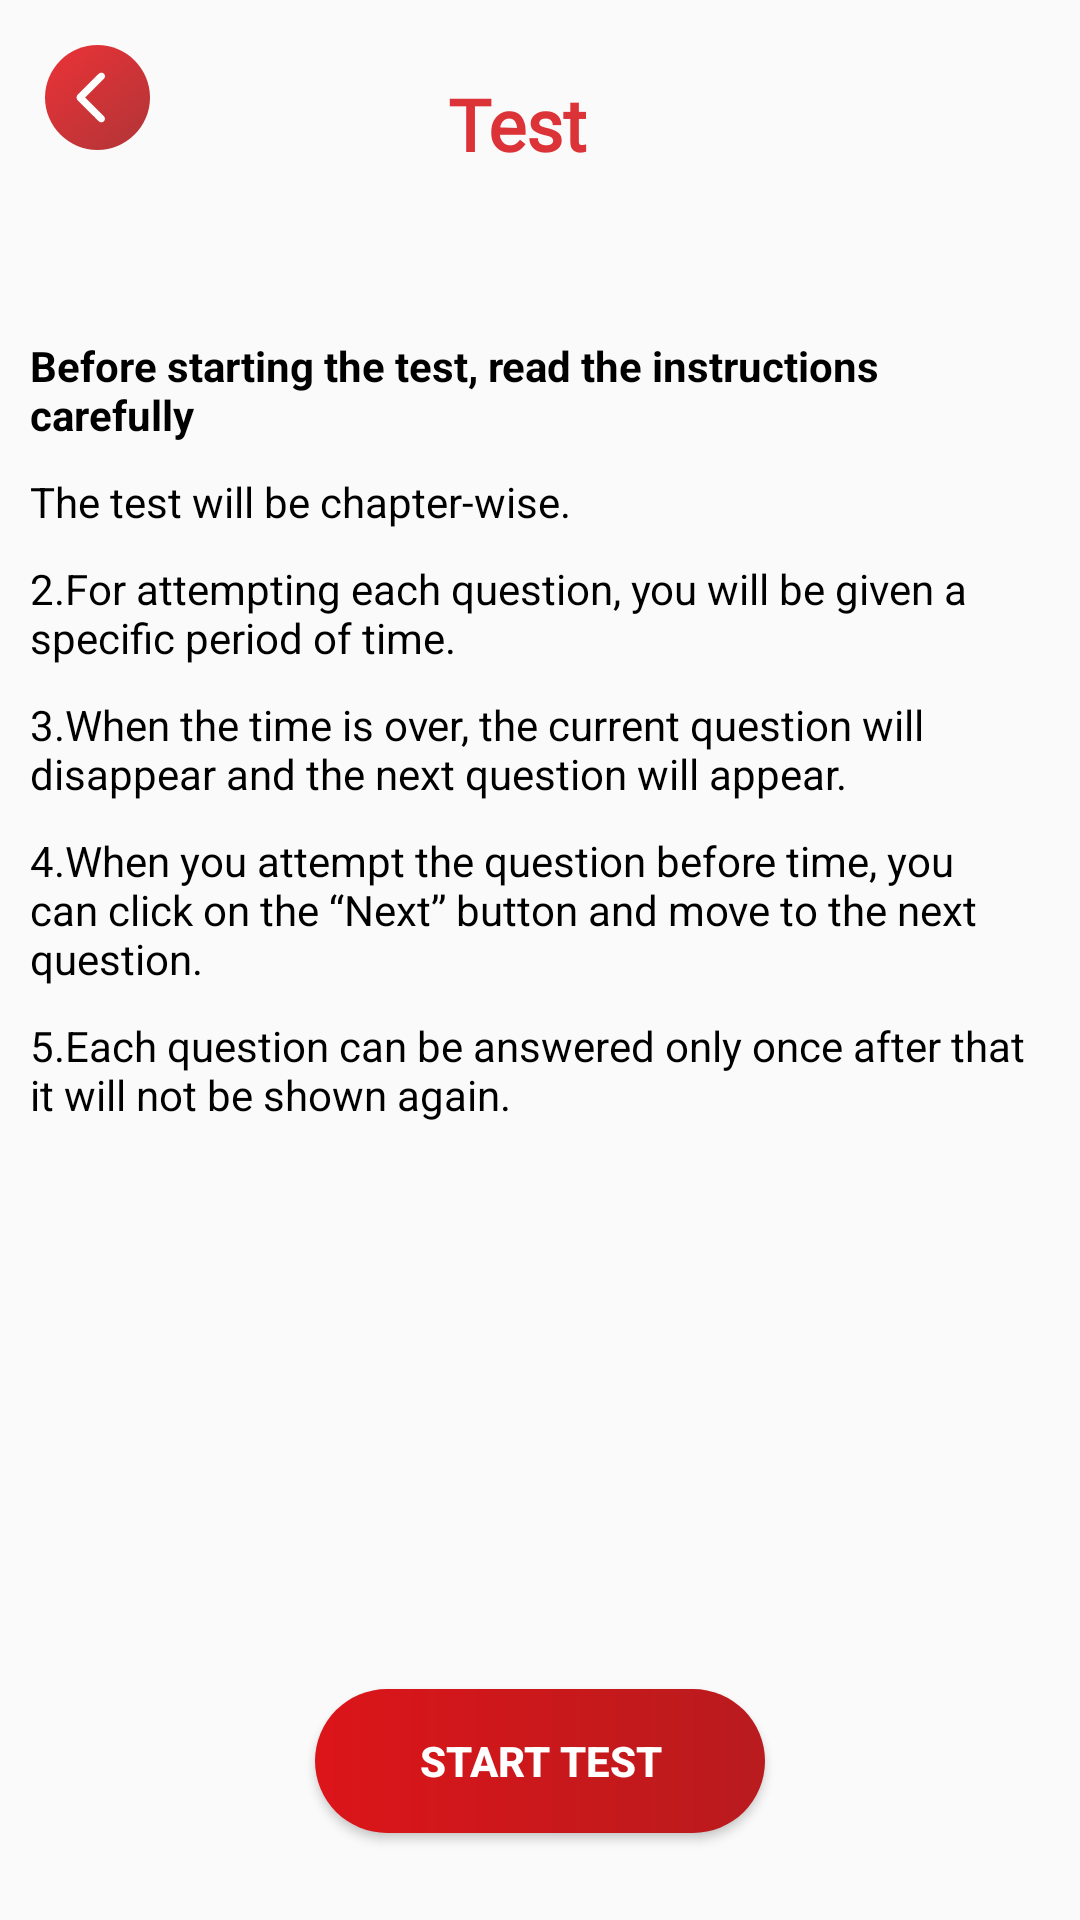

Named icons in this screenshot (1080w x 1920h) and their centers, (x,y):
backarrow: (97,97)
